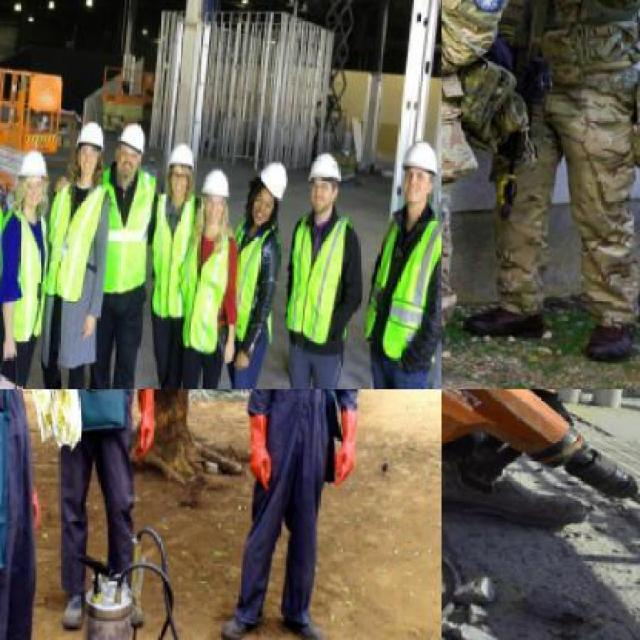vest: (362, 198, 440, 368), (283, 207, 355, 356), (500, 0, 638, 71), (91, 163, 158, 303), (0, 198, 57, 354), (43, 174, 108, 308), (174, 225, 235, 360), (146, 189, 202, 325), (225, 212, 277, 350)
